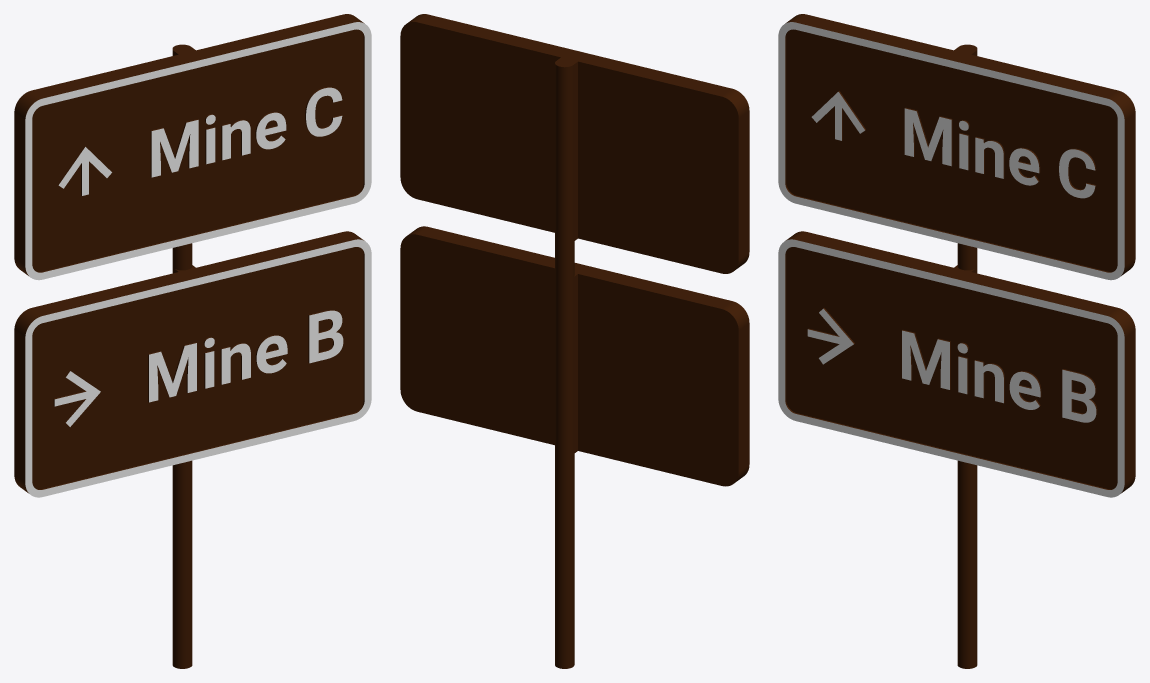
Rendered from sign_BC.fbx.
3 views of the same model, side by side, from view 1: azimuth 30°, elevation 25°; view 2: azimuth 150°, elevation 25°; view 3: azimuth 330°, elevation 25° (orthographic). The views are drawn at different scales.
Visible parts, largest first — view 1: Part 1.001; view 2: Part 1.001; view 3: Part 1.001.
Boxes of the visible parts, x1=… form: Part 1.001: x1=14, y1=14, x2=371, y2=668; Part 1.001: x1=400, y1=14, x2=749, y2=668; Part 1.001: x1=778, y1=14, x2=1135, y2=668.
Bounding box in the file's own units: 400 × 680 × 41.99.
